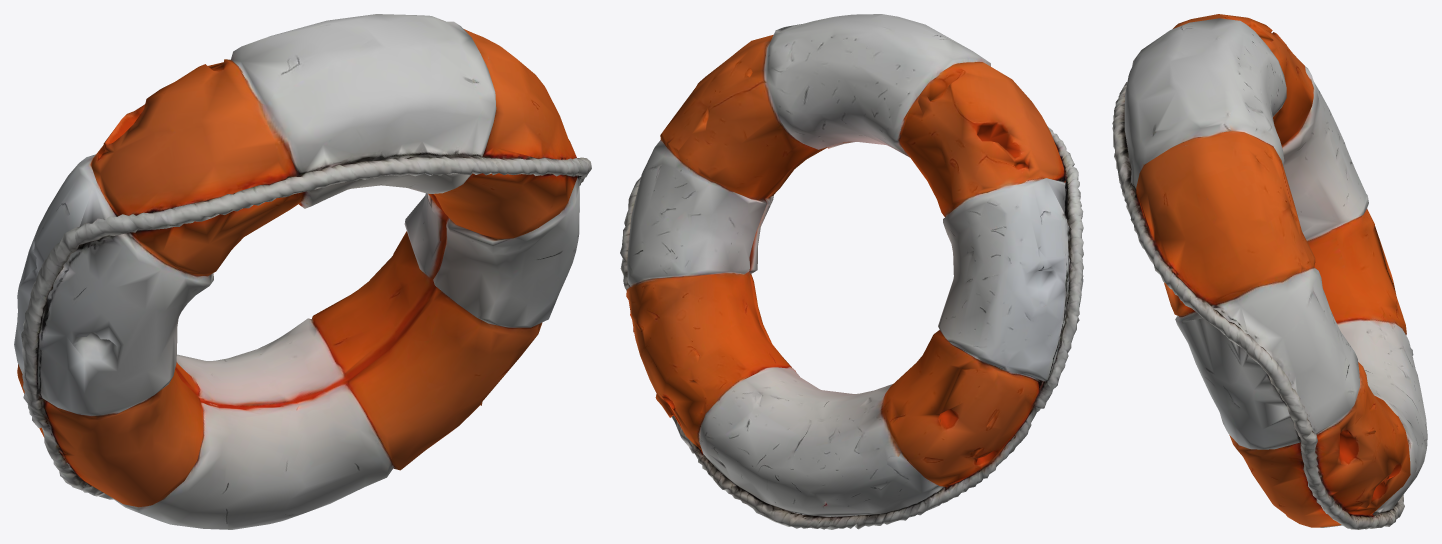
Rendered from prop-lifering.glb.
3 renders of one model, left to right at view 1: azimuth 30°, elevation 25°; view 2: azimuth 150°, elevation 25°; view 3: azimuth 270°, elevation 25°, orthographic. The views are drawn at different scales.
Visible parts, largest first — view 1: tripo_node_7d42b2ec-cf34-4d10-9f7b-ccbb34754016; view 2: tripo_node_7d42b2ec-cf34-4d10-9f7b-ccbb34754016; view 3: tripo_node_7d42b2ec-cf34-4d10-9f7b-ccbb34754016.
Boxes of the visible parts, x1,y1,x2,y2 form: tripo_node_7d42b2ec-cf34-4d10-9f7b-ccbb34754016: (14,14,591,529); tripo_node_7d42b2ec-cf34-4d10-9f7b-ccbb34754016: (620,14,1083,529); tripo_node_7d42b2ec-cf34-4d10-9f7b-ccbb34754016: (1112,14,1427,529).
Bounding box in the file's own units: 0.9993 × 0.9384 × 0.5767.
Materials: 1 (1 with a texture image).
